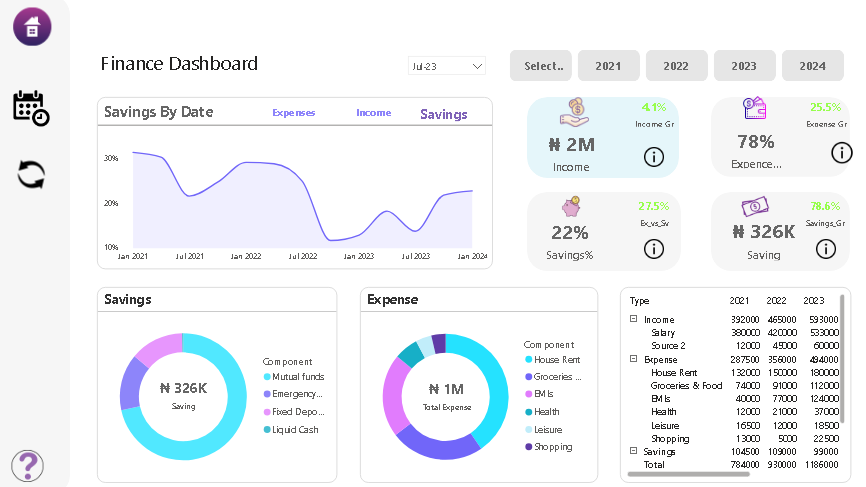

The dashboard page shown, as its layout file describes it:
{"tool":"powerbi","page":{"name":"Page 1","canvas":[1280,720],"ordinal":0},"visuals":[{"type":"shape","box":[1033.9,283.7,200.2,113.8],"z":0},{"type":"shape","box":[1033.9,146.9,200.2,115.2],"z":1000},{"type":"shape","box":[769,283.7,221.8,113.8],"z":2000},{"type":"shape","box":[769,146.9,218.9,116.6],"z":3000},{"type":"areaChart","fields":{"Category":["FinData.Date.Variation.Date Hierarchy.Year","FinData.Date.Variation.Date Hierarchy.Quarter"],"Y":["Measured Table.Line_Chart"]},"box":[149.8,146.9,570.2,247.7],"z":4000},{"type":"card","fields":{"Values":["Measured Table.Total_Income"]},"box":[786.2,188.6,92.2,74.9],"z":5000},{"type":"card","fields":{"Values":["Measured Table.Total_Saving"]},"box":[1055.3,317,108.7,70],"z":6000},{"type":"card","fields":{"Values":["Measured Table.Expence %"]},"box":[1055.5,188.6,86.4,66.2],"z":7000},{"type":"card","fields":{"Values":["Measured Table.Total_Value"]},"box":[318.2,397.4,161.3,178.6],"z":8000},{"type":"card","fields":{"Values":["Measured Table.Savings"]},"box":[786.2,316.8,87.8,70.6],"z":9000},{"type":"advancedSlicerVisual","fields":{"Values":["FinData.Year"]},"box":[738.7,73.4,496.8,56.2],"z":10000},{"type":"donutChart","title":"Savings","fields":{"Category":["FinData.Component"],"Y":["Measured Table.Total_Saving"]},"box":[149.8,420.5,345.6,282.2],"z":11000},{"type":"donutChart","title":"Expense ","fields":{"Category":["FinData.Component"],"Y":["Measured Table.Total Expense"]},"box":[528.5,420.5,342.7,282.2],"z":12000},{"type":"pivotTable","fields":{"Values":["Measured Table.Total_Value"],"Rows":["FinData.Type","FinData.Component"],"Columns":["FinData.Year"]},"box":[902.9,420.5,332.6,282.2],"z":13000},{"type":"advancedSlicerVisual","fields":{"Values":["Line Selection.Type"]},"box":[363.9,152.4,329.9,35.9],"z":14000},{"type":"textbox","box":[149.8,73.4,250.6,56.2],"z":15000},{"type":"shape","box":[0,0,110.9,720],"z":16000},{"type":"slicer","fields":{"Values":["Selected Table.Month_Yr"]},"box":[587.5,77.8,132.5,51.8],"z":17000},{"type":"card","fields":{"Values":["Measured Table.Income_Monthly_Gr"]},"box":[915.8,146.9,72,47.5],"z":18000},{"type":"card","fields":{"Values":["Measured Table.Expense_Monthly_Gr"]},"box":[1163.5,146.9,72,47.5],"z":19000},{"type":"card","fields":{"Values":["Measured Table.Savings_Monthly_Gr"]},"box":[1163.5,285.1,70.6,56.2],"z":20000},{"type":"card","fields":{"Values":["Measured Table.Ex_vs_Sv"]},"box":[915.8,283.7,72,57.6],"z":21000},{"type":"image","box":[10.1,13,92.2,64.8],"z":22000},{"type":"image","box":[792.4,141.6,87.8,53.8],"z":23000},{"type":"image","box":[24.5,653.8,53.3,49],"z":24000},{"type":"image","box":[1072,136.2,52,52],"z":25000},{"type":"image","box":[1072.8,283.7,50.4,41.8],"z":26000},{"type":"image","box":[788.8,283.2,86.1,41.2],"z":27000},{"type":"image","box":[24.5,125.3,61.9,74.9],"z":28000},{"type":"image","box":[24.5,230.4,61.9,56.2],"z":29000},{"type":"image","box":[927.4,211.7,47.5,43.2],"z":30000},{"type":"image","box":[927.4,344.2,47.5,43.2],"z":31000},{"type":"image","box":[1175,344.2,47.5,43.2],"z":32000},{"type":"image","box":[1197.5,204.4,48.4,44.8],"z":33000},{"type":"image","box":[21.6,645.1,56.2,66.2],"z":34000},{"type":"actionButton","box":[22.5,130.7,63.1,65.4],"z":35000},{"type":"actionButton","box":[22.3,230.7,62.5,56.6],"z":37000},{"type":"card","fields":{"Values":["Measured Table.Total Expense"]},"box":[610.2,535.8,86.3,80.4],"z":38000},{"type":"card","fields":{"Values":["Measured Table.Total_Saving"]},"box":[220.3,540.3,108.7,70],"z":39000}]}

Visuals, with their boxes on the page's 1280x720 design canvas (x1, y1, x2, y2). These are canvas units, not pixel positions in the 866x487 screenshot, which may show the page scaled, cropped or inside an application window:
shape: <bbox>1034, 284, 1234, 398</bbox>
shape: <bbox>1034, 147, 1234, 262</bbox>
shape: <bbox>769, 284, 991, 398</bbox>
shape: <bbox>769, 147, 988, 264</bbox>
areaChart - FinData.Date.Variation.Date Hierarchy.Year x FinData.Date.Variation.Date Hierarchy.Quarter: <bbox>150, 147, 720, 395</bbox>
card - Measured Table.Total_Income: <bbox>786, 189, 878, 264</bbox>
card - Measured Table.Total_Saving: <bbox>1055, 317, 1164, 387</bbox>
card - Measured Table.Expence %: <bbox>1056, 189, 1142, 255</bbox>
card - Measured Table.Total_Value: <bbox>318, 397, 480, 576</bbox>
card - Measured Table.Savings: <bbox>786, 317, 874, 387</bbox>
advancedSlicerVisual - FinData.Year: <bbox>739, 73, 1236, 130</bbox>
"Savings" donutChart: <bbox>150, 420, 495, 703</bbox>
"Expense " donutChart: <bbox>528, 420, 871, 703</bbox>
pivotTable - Measured Table.Total_Value x FinData.Type: <bbox>903, 420, 1236, 703</bbox>
advancedSlicerVisual - Line Selection.Type: <bbox>364, 152, 694, 188</bbox>
textbox: <bbox>150, 73, 400, 130</bbox>
shape: <bbox>0, 0, 111, 720</bbox>
slicer - Selected Table.Month_Yr: <bbox>588, 78, 720, 130</bbox>
card - Measured Table.Income_Monthly_Gr: <bbox>916, 147, 988, 194</bbox>
card - Measured Table.Expense_Monthly_Gr: <bbox>1164, 147, 1236, 194</bbox>
card - Measured Table.Savings_Monthly_Gr: <bbox>1164, 285, 1234, 341</bbox>
card - Measured Table.Ex_vs_Sv: <bbox>916, 284, 988, 341</bbox>
image: <bbox>10, 13, 102, 78</bbox>
image: <bbox>792, 142, 880, 195</bbox>
image: <bbox>24, 654, 78, 703</bbox>
image: <bbox>1072, 136, 1124, 188</bbox>
image: <bbox>1073, 284, 1123, 326</bbox>
image: <bbox>789, 283, 875, 324</bbox>
image: <bbox>24, 125, 86, 200</bbox>
image: <bbox>24, 230, 86, 287</bbox>
image: <bbox>927, 212, 975, 255</bbox>
image: <bbox>927, 344, 975, 387</bbox>
image: <bbox>1175, 344, 1222, 387</bbox>
image: <bbox>1198, 204, 1246, 249</bbox>
image: <bbox>22, 645, 78, 711</bbox>
actionButton: <bbox>22, 131, 86, 196</bbox>
actionButton: <bbox>22, 231, 85, 287</bbox>
card - Measured Table.Total Expense: <bbox>610, 536, 696, 616</bbox>
card - Measured Table.Total_Saving: <bbox>220, 540, 329, 610</bbox>
